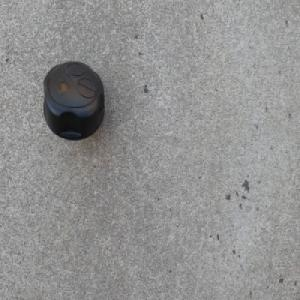FuelCap: (42, 59, 105, 143)
